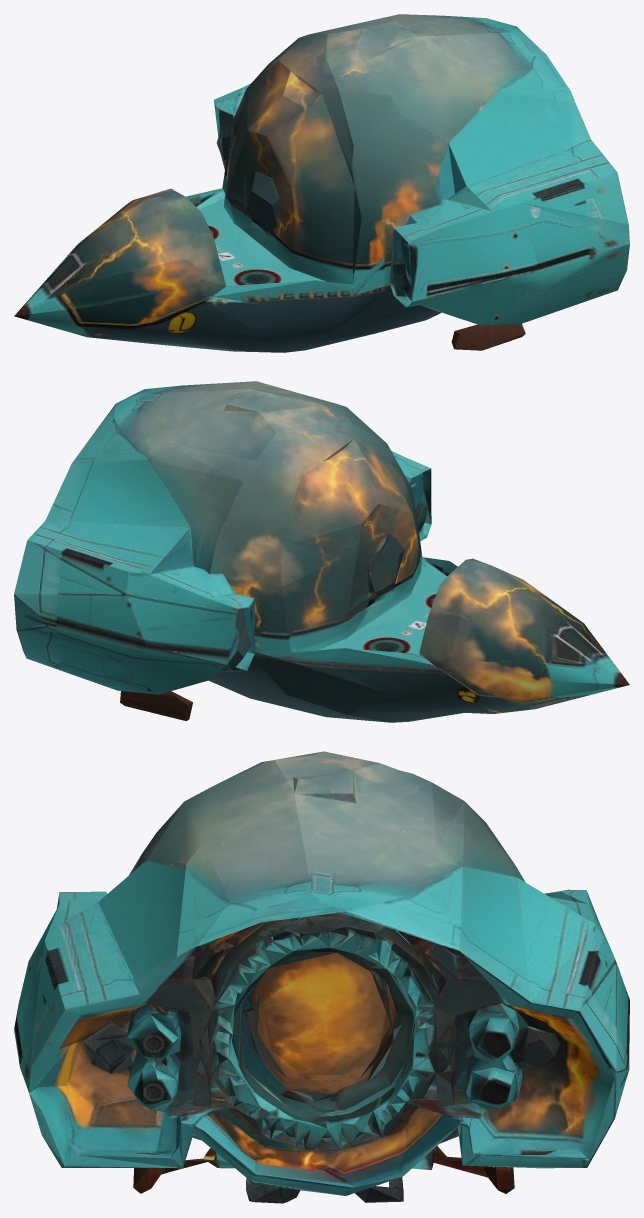
Rendered from nation-x-scout.glb.
The picture shows the model from 3 angles, top to bottom: view 1: azimuth 30°, elevation 25°; view 2: azimuth 150°, elevation 25°; view 3: azimuth 270°, elevation 25°; orthographic projection. The views are drawn at different scales.
Size of the model in its own units: 1.9 by 1.01 by 1.46.
Materials: 1 (1 with a texture image).
